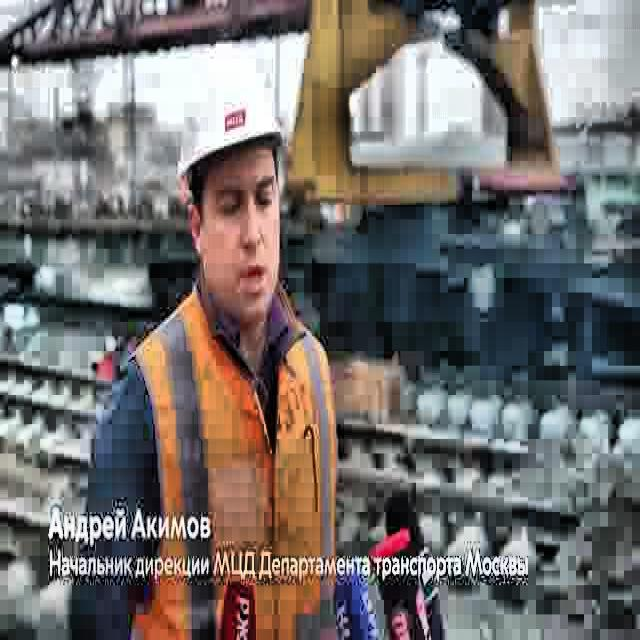safety_helmet: (175, 49, 285, 181)
safety_jacket: (122, 285, 340, 640)
